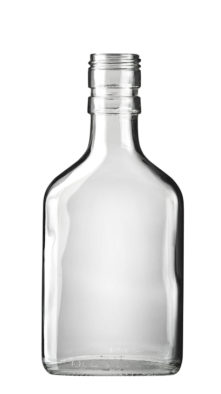glass_bottleww: (24, 16, 199, 386)
